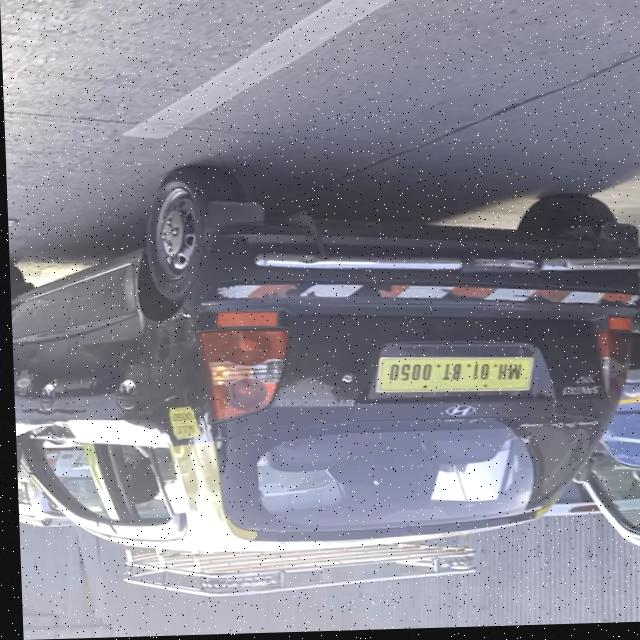plate: (369, 353, 534, 398)
